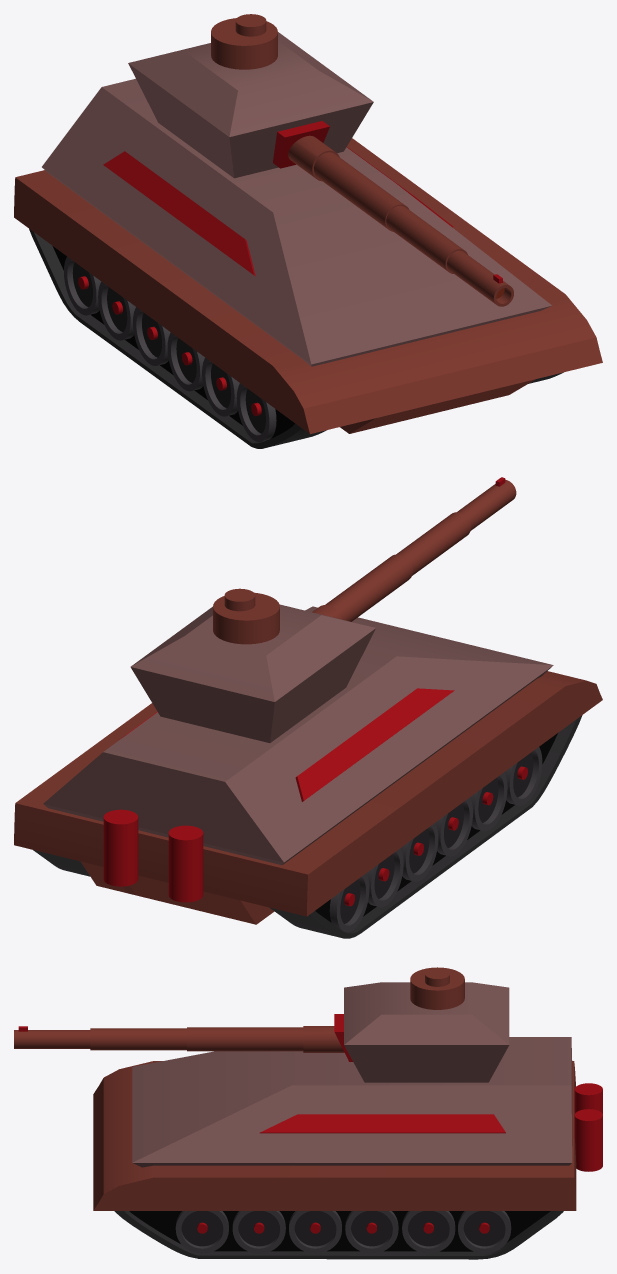
File: tankEnemy.fbx
3 renders of one model, top to bottom at view 1: azimuth 30°, elevation 25°; view 2: azimuth 150°, elevation 25°; view 3: azimuth 270°, elevation 25°, orthographic. The views are drawn at different scales.
Visible parts, largest first — view 1: back, wheel, head; view 2: back, wheel, head; view 3: back, wheel, head.
Boxes of the visible parts, left/top/right/bottom form: back: left=42, top=78, right=551, bottom=366; wheel: left=14, top=138, right=602, bottom=448; head: left=128, top=14, right=513, bottom=306; back: left=43, top=606, right=553, bottom=902; wheel: left=14, top=671, right=602, bottom=938; head: left=130, top=477, right=516, bottom=742; back: left=132, top=1037, right=602, bottom=1171; wheel: left=93, top=1061, right=576, bottom=1259; head: left=14, top=967, right=509, bottom=1082.
Bounding box in the file's own units: 606 × 562 × 1293.
Materials: 3 (3 with a texture image).
